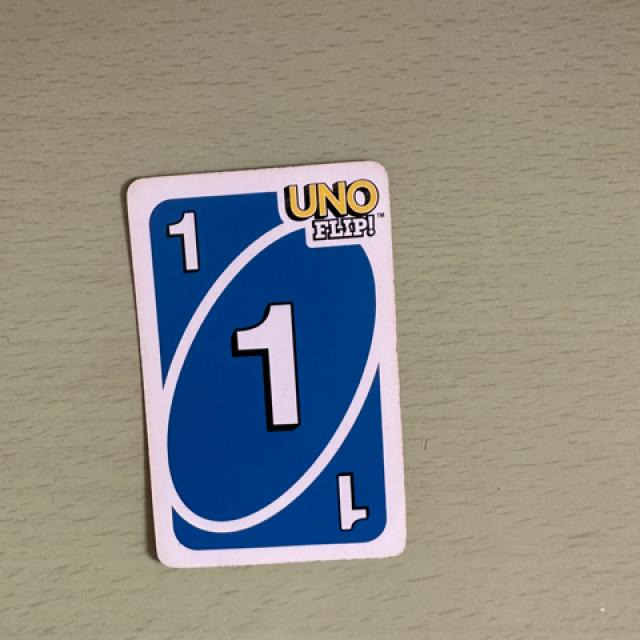lblue-1: (141, 188, 228, 297)
